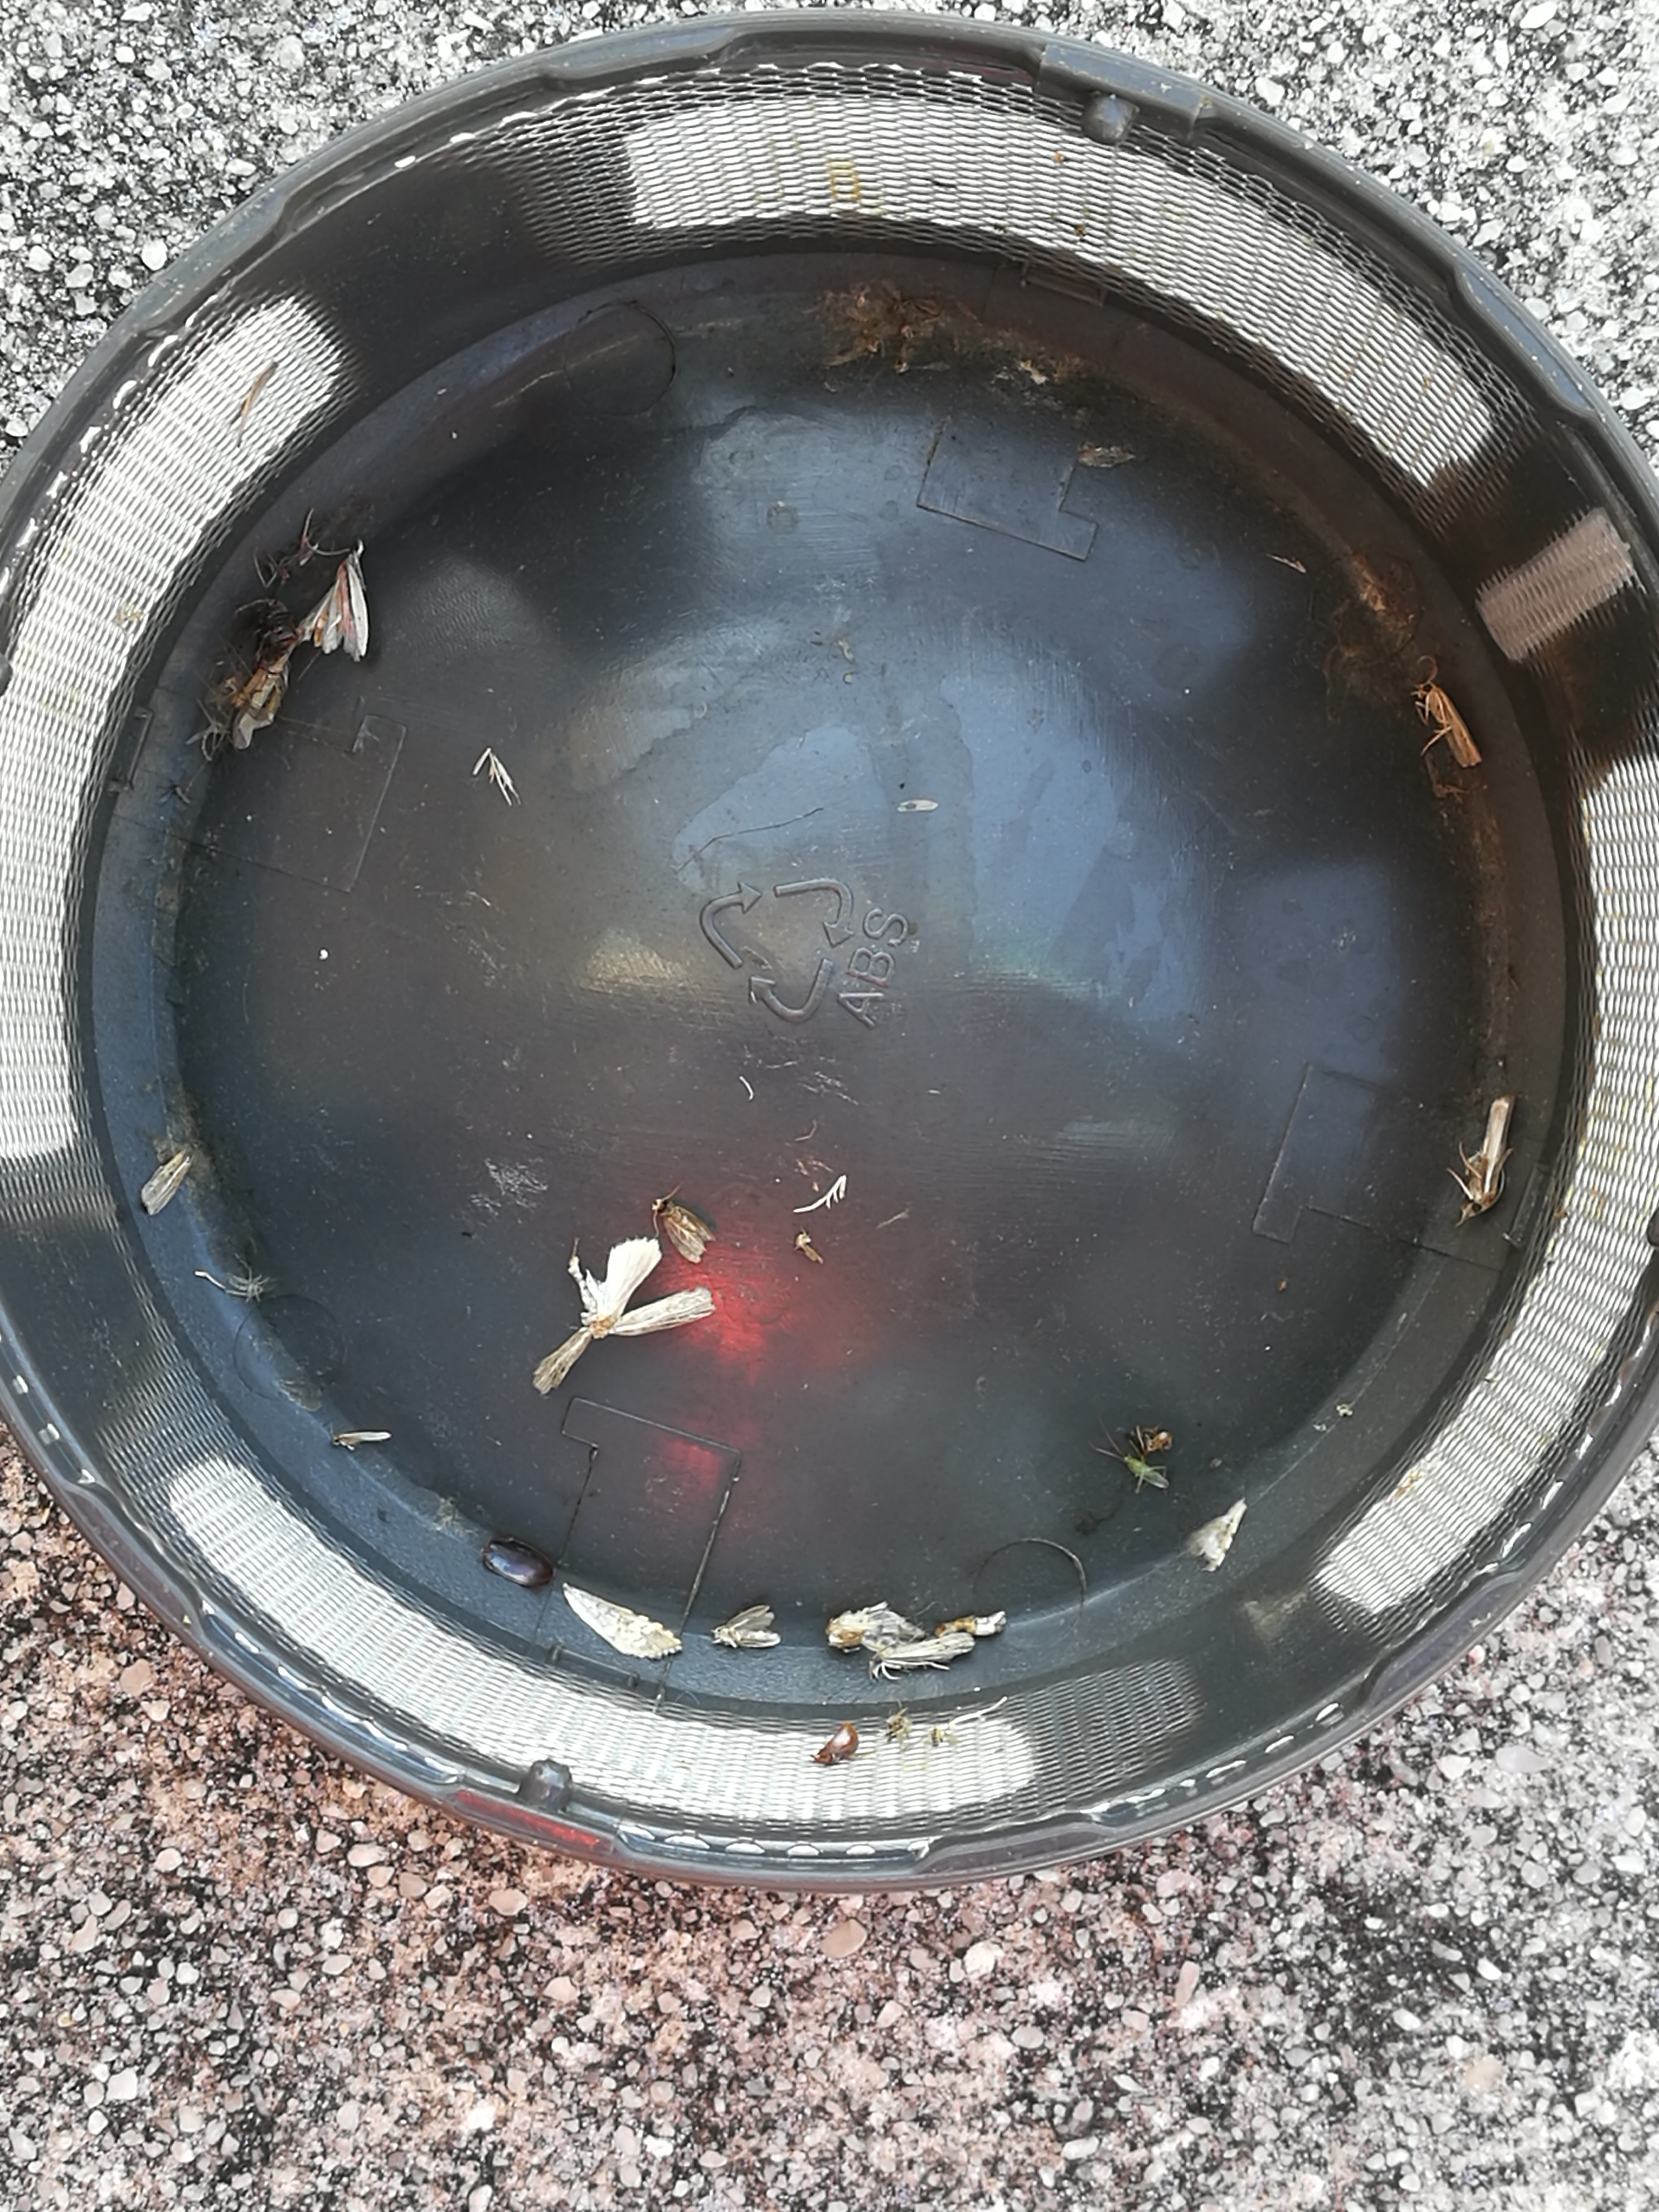mosquito: (1457, 1092, 1516, 1226), (1419, 681, 1481, 768), (870, 1632, 976, 1674), (333, 1428, 390, 1449)
moth: (533, 1240, 713, 1393), (296, 538, 369, 658), (653, 1197, 714, 1263), (713, 1606, 779, 1649)
